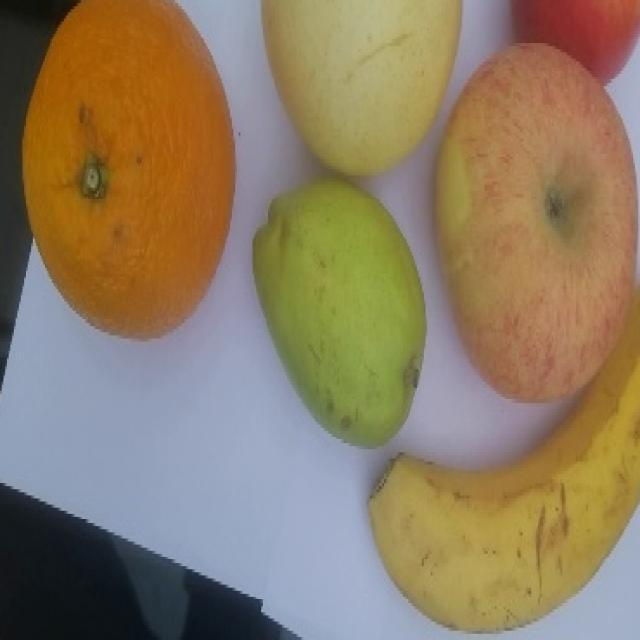Apple: (433, 41, 638, 403), (510, 0, 639, 86)
Banana: (367, 286, 639, 633)
Orange: (20, 0, 236, 340)
